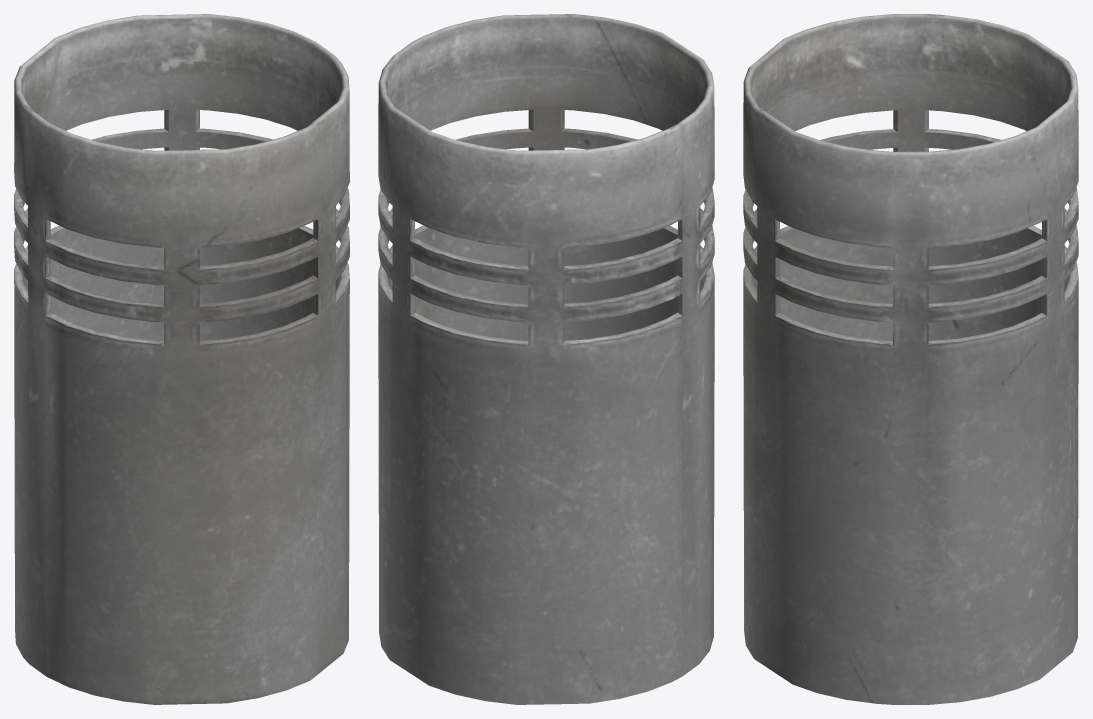
File: Prop_MetalTrashCan.fbx
The picture shows the model from 3 angles, left to right: view 1: azimuth 30°, elevation 25°; view 2: azimuth 150°, elevation 25°; view 3: azimuth 270°, elevation 25°; orthographic projection.
Parts seen in each view (by area): view 1: Prop_MetalTrashCan; view 2: Prop_MetalTrashCan; view 3: Prop_MetalTrashCan.
Boxes of the visible parts, x1,y1,x2,y2 form: Prop_MetalTrashCan: [14, 14, 349, 704]; Prop_MetalTrashCan: [378, 14, 714, 704]; Prop_MetalTrashCan: [743, 14, 1078, 704].
Bounding box in the file's own units: 15.66 × 28.51 × 15.73.
